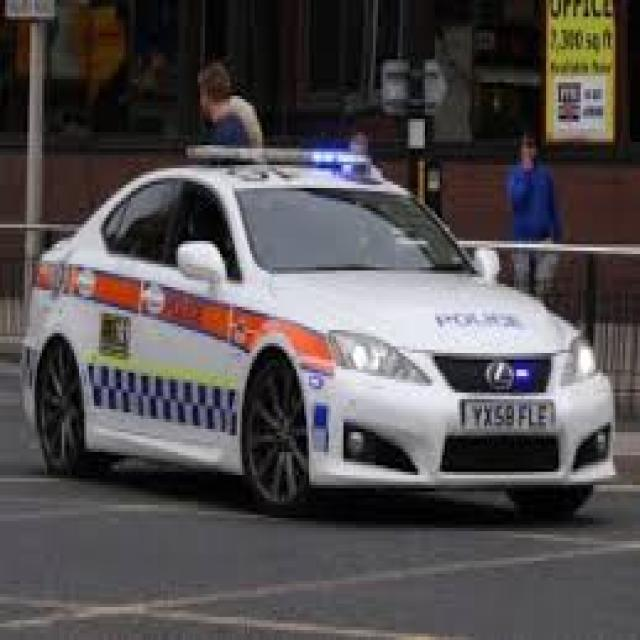fire_truck: (26, 148, 618, 530)
